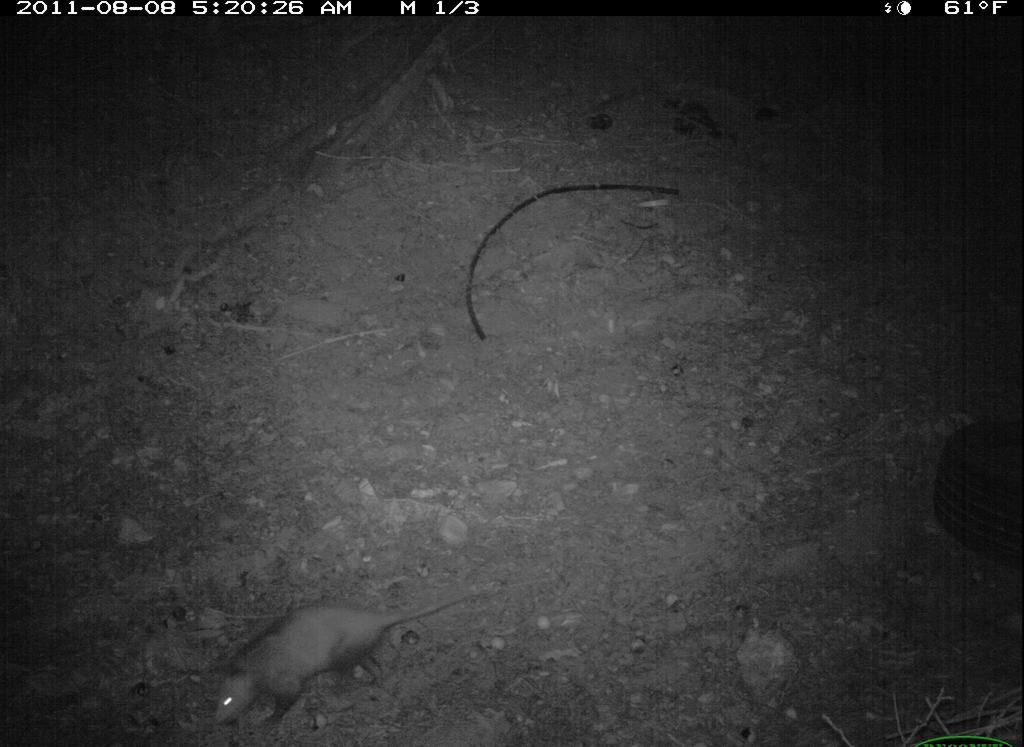opossum: (199, 582, 472, 735)
